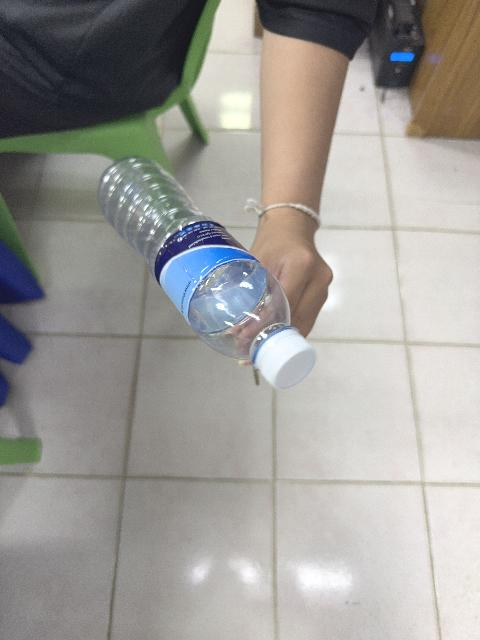bottle: (98, 158, 314, 388)
